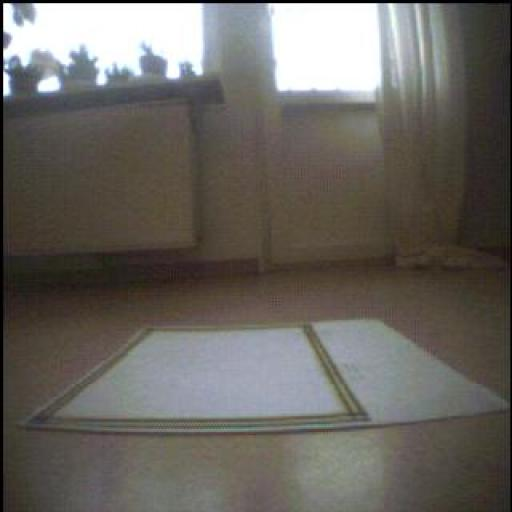Pad: (25, 321, 508, 435)
